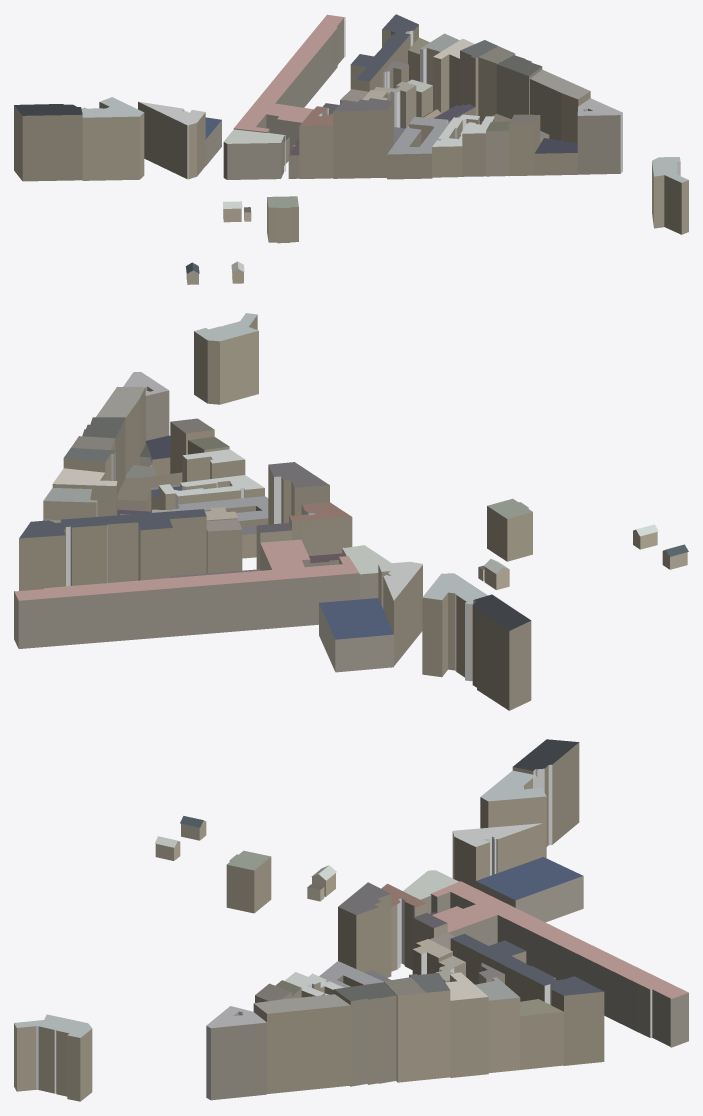
The picture shows the model from 3 angles, top to bottom: view 1: azimuth 30°, elevation 25°; view 2: azimuth 150°, elevation 25°; view 3: azimuth 270°, elevation 25°; orthographic projection. The views are drawn at different scales.
Visible parts, largest first — view 1: tuile; view 2: tuile; view 3: tuile.
Boxes of the visible parts, box(x1,y1,x2,y2) form: tuile: box(14, 14, 688, 284); tuile: box(14, 313, 688, 710); tuile: box(14, 739, 688, 1101).
Size of the model in its own units: 254 by 37.23 by 260.
